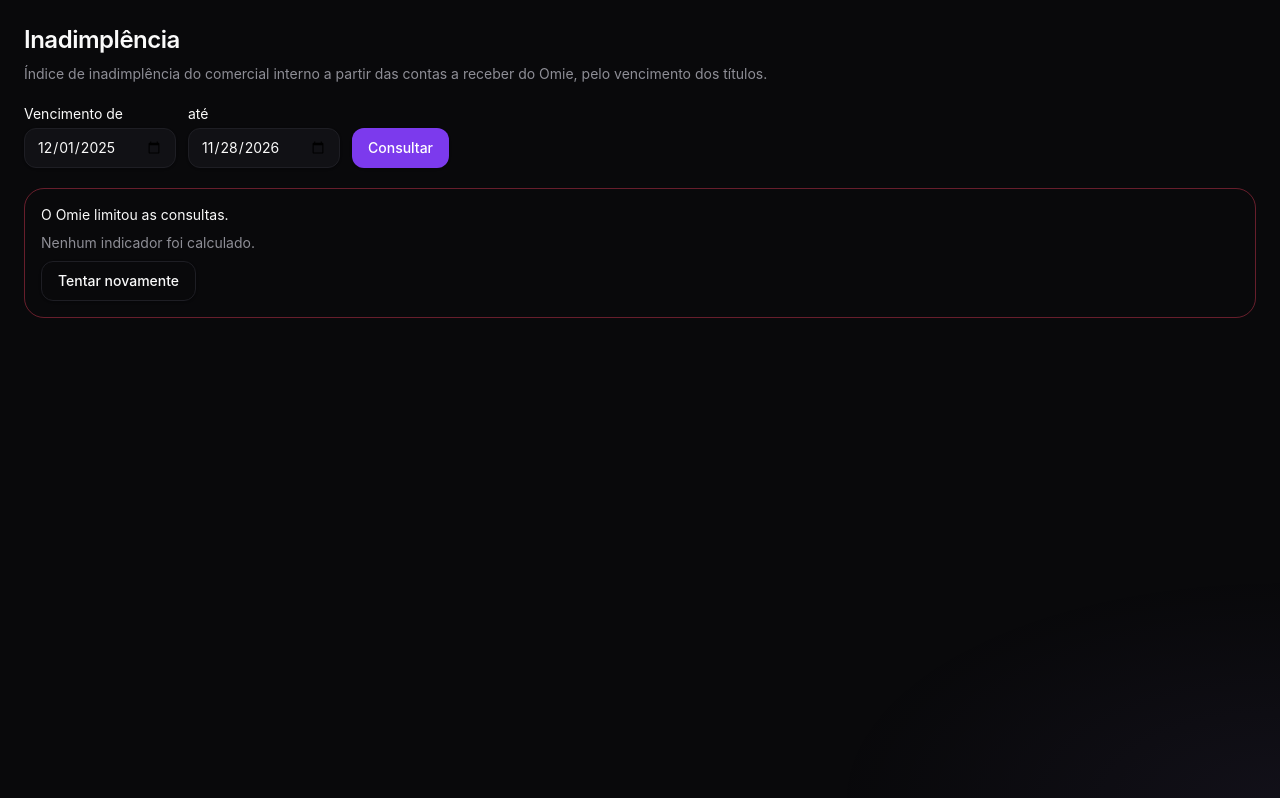
Test case: mostra erro do Omie, não inventa indicadores e permite tentar novamente
Expected: the text "O Omie limitou as consultas." is shown, [41, 206, 229, 223]
Expected: the text "Nenhum indicador foi calculado." is shown, [41, 234, 255, 251]
Click the button "Tentar novamente": (119, 281) [41, 261, 196, 301]
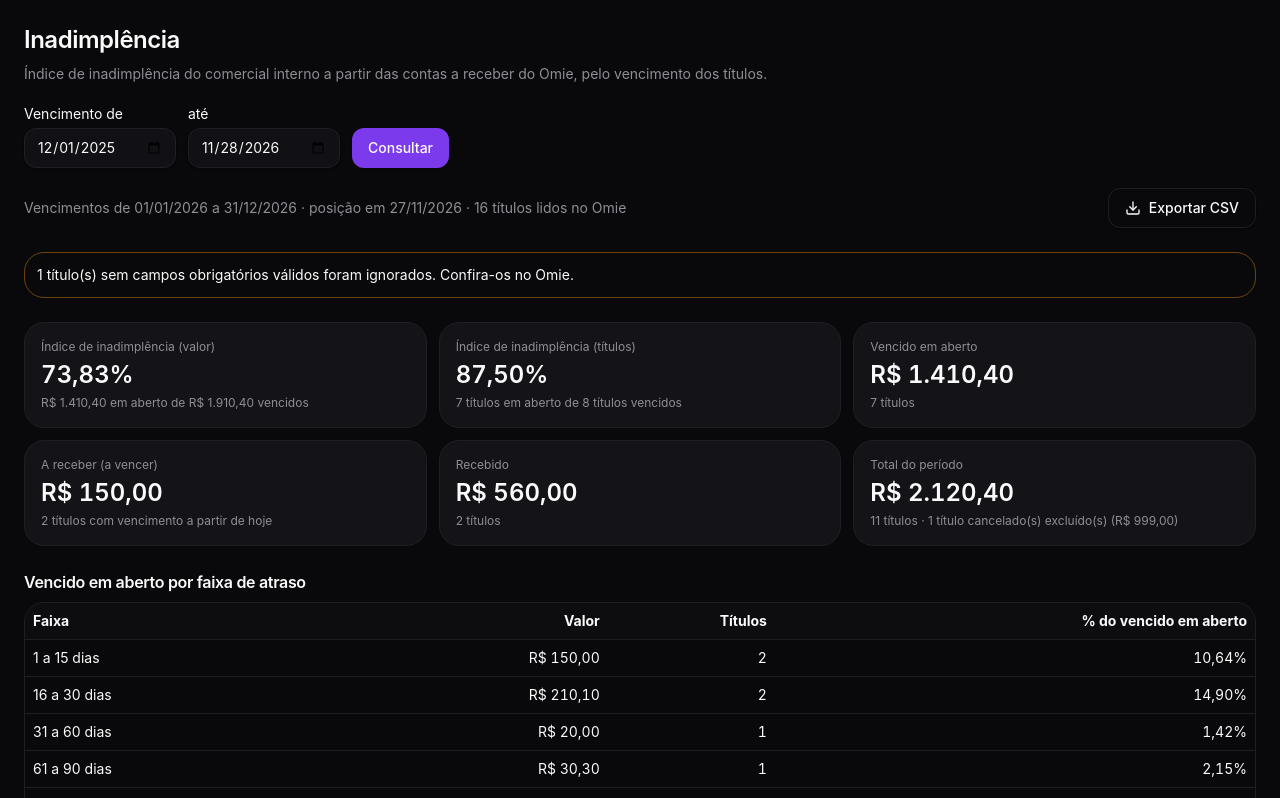
Now the text "73,83%" is shown, box [41, 360, 134, 389]
